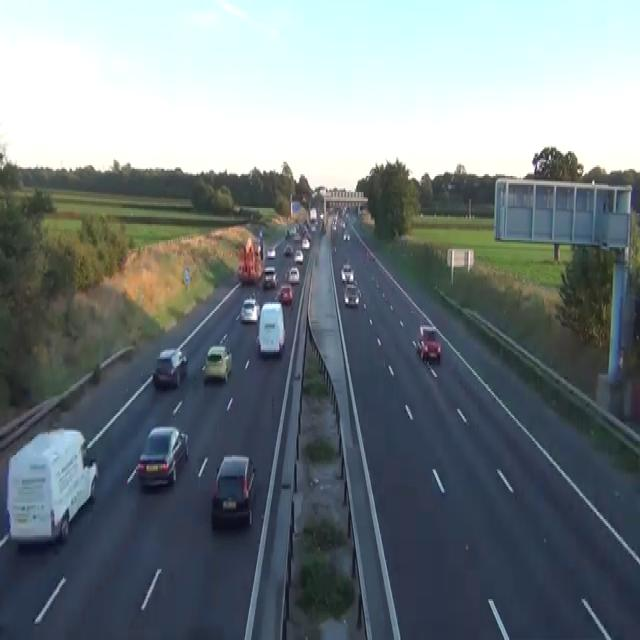Car: (210, 453, 256, 528), (135, 425, 188, 487), (152, 347, 187, 388), (202, 343, 232, 382), (416, 323, 441, 362), (239, 297, 260, 322), (274, 282, 293, 306), (344, 282, 360, 306), (262, 265, 277, 288), (340, 263, 354, 283), (284, 265, 299, 283), (343, 272, 354, 284), (266, 245, 276, 258), (294, 249, 303, 263), (301, 236, 310, 249), (283, 244, 293, 254), (446, 182, 457, 190), (284, 267, 290, 279), (310, 222, 316, 231), (285, 228, 290, 238), (343, 233, 350, 240), (293, 233, 300, 240), (301, 196, 306, 204), (341, 220, 346, 228), (331, 222, 336, 230), (344, 212, 349, 220), (320, 212, 323, 220)
Truck: (6, 426, 98, 546), (257, 300, 285, 356), (237, 233, 264, 284), (309, 206, 316, 222)
